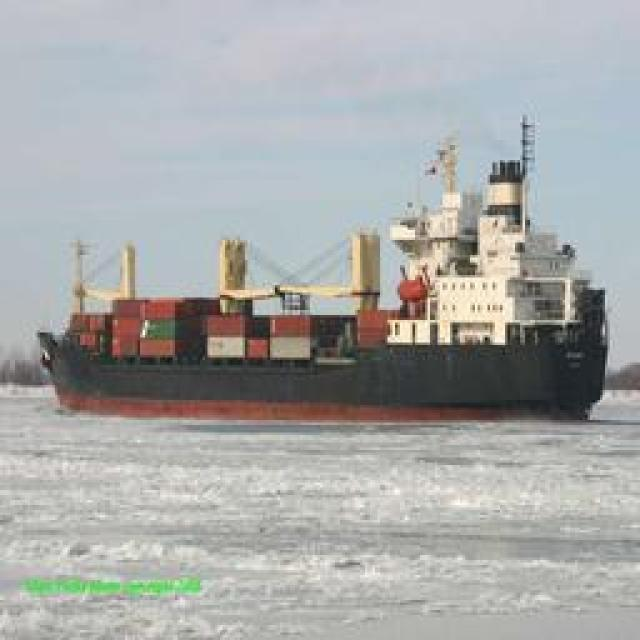CIV_Ship: (52, 119, 602, 419)
